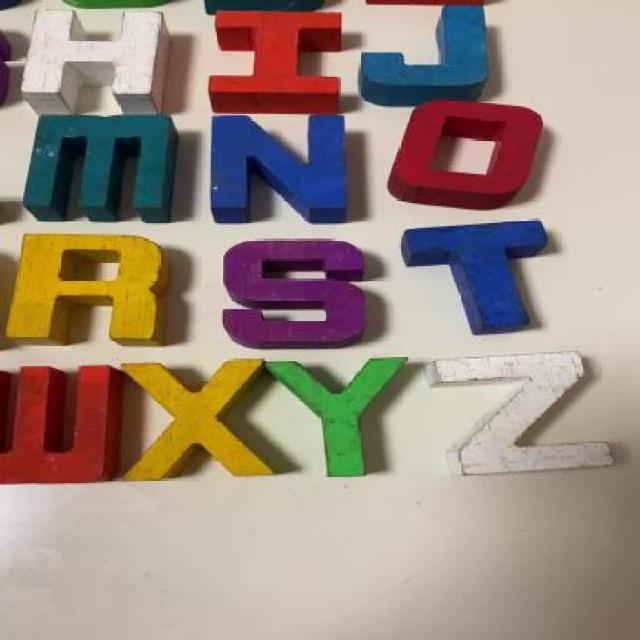H: (29, 10, 174, 110)
I: (214, 12, 338, 112)
J: (363, 8, 488, 102)
M: (34, 116, 174, 222)
N: (208, 117, 350, 218)
O: (395, 101, 542, 205)
R: (11, 233, 174, 344)
S: (226, 239, 359, 347)
T: (402, 221, 548, 334)
X: (120, 362, 271, 480)
Y: (266, 359, 428, 476)
Z: (434, 352, 620, 473)
